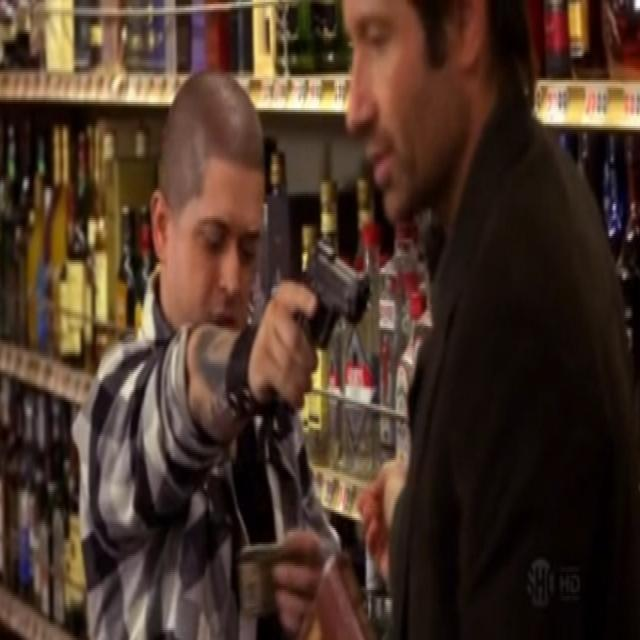weapons: (280, 218, 377, 417)
